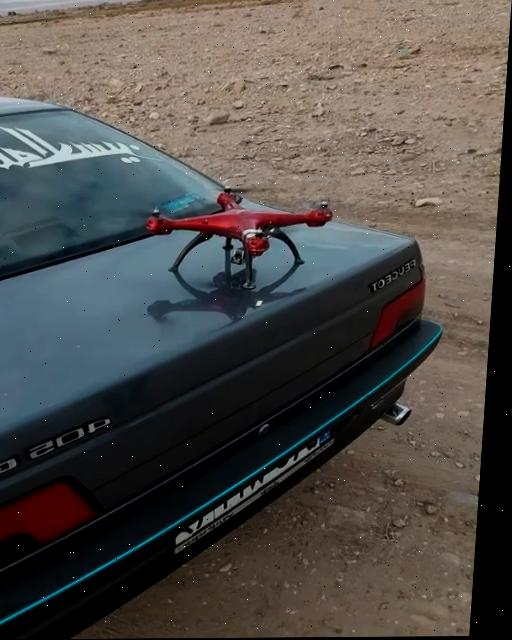drone: (129, 180, 344, 295)
